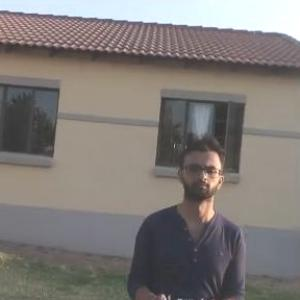follow: (121, 125, 252, 299)
